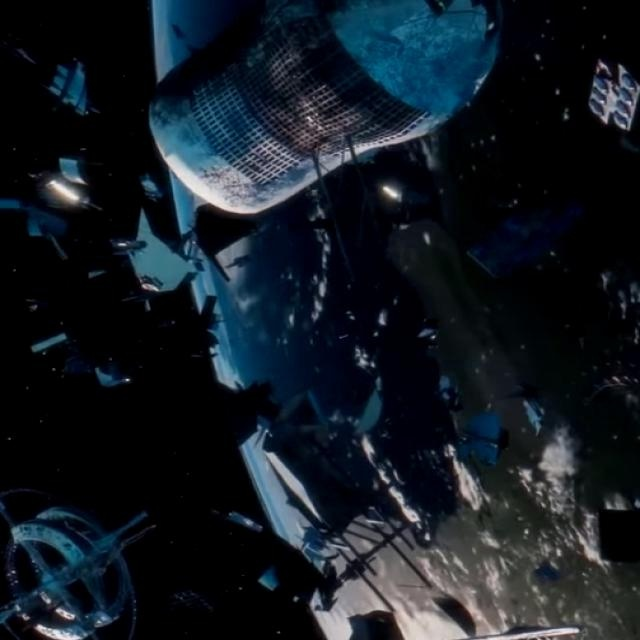large_debris: (131, 0, 507, 232), (190, 371, 448, 621), (3, 478, 175, 640), (77, 200, 217, 314), (0, 151, 102, 267), (19, 325, 155, 404), (24, 32, 116, 128), (437, 396, 519, 486), (570, 36, 640, 138)
